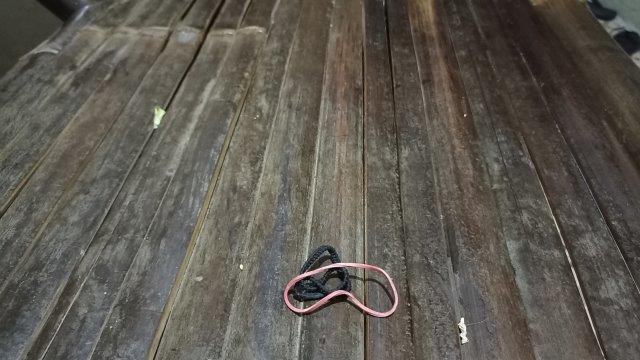karet: (284, 244, 398, 317)
